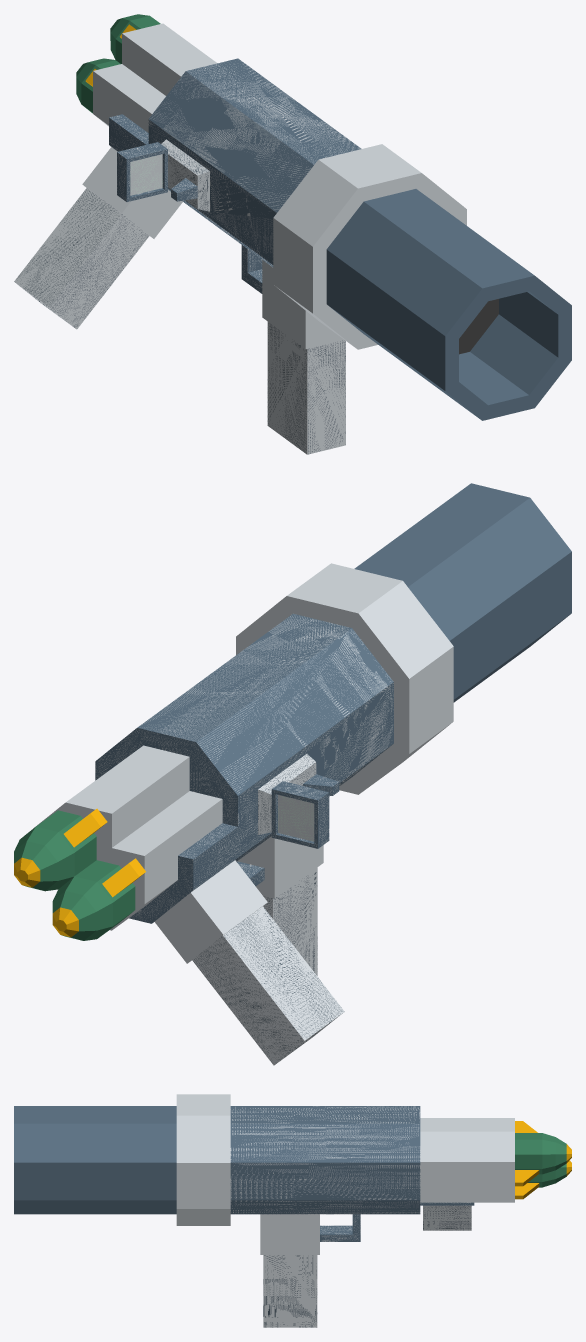
File: rocketlauncherModern.dae
The picture shows the model from 3 angles, top to bottom: view 1: azimuth 30°, elevation 25°; view 2: azimuth 150°, elevation 25°; view 3: azimuth 270°, elevation 25°; orthographic projection. The views are drawn at different scales.
Visible parts, largest first — view 1: Group (×3); view 2: Group (×3); view 3: Group (×3).
Boxes of the visible parts, x1,y1,x2,y2 form: Group (×3): (14,14,571,454); Group (×3): (14,483,571,1065); Group (×3): (14,1094,571,1327).
Bounding box in the file's own units: 0.265 × 0.3369 × 0.7886.
